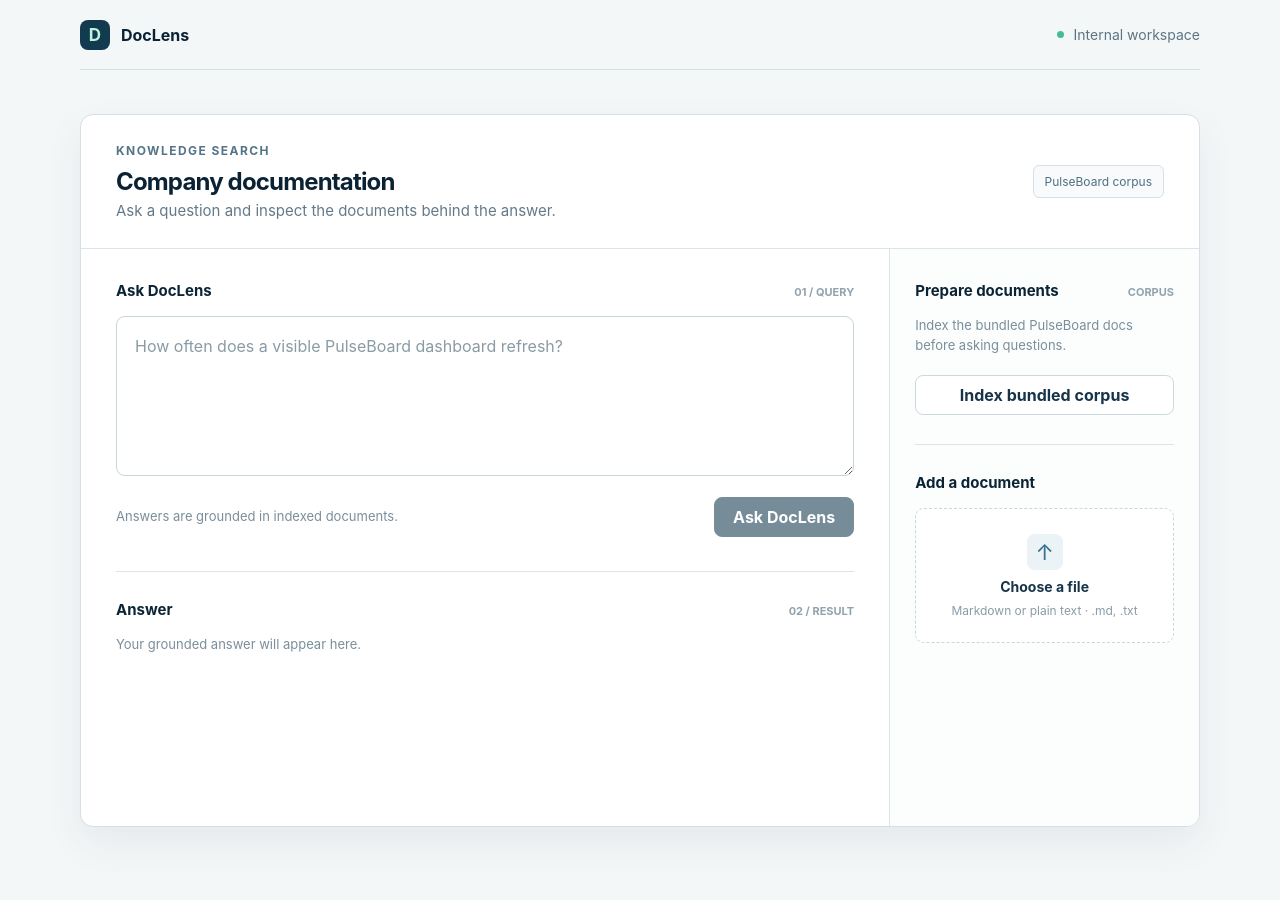
it: DocLens frontend › submits a question and renders unique source documents by display name
The image size is (1280, 900).
Type "How often does it refresh?" into the text box named "Question". click: (485, 396)
box: 116,316 -> 854,476
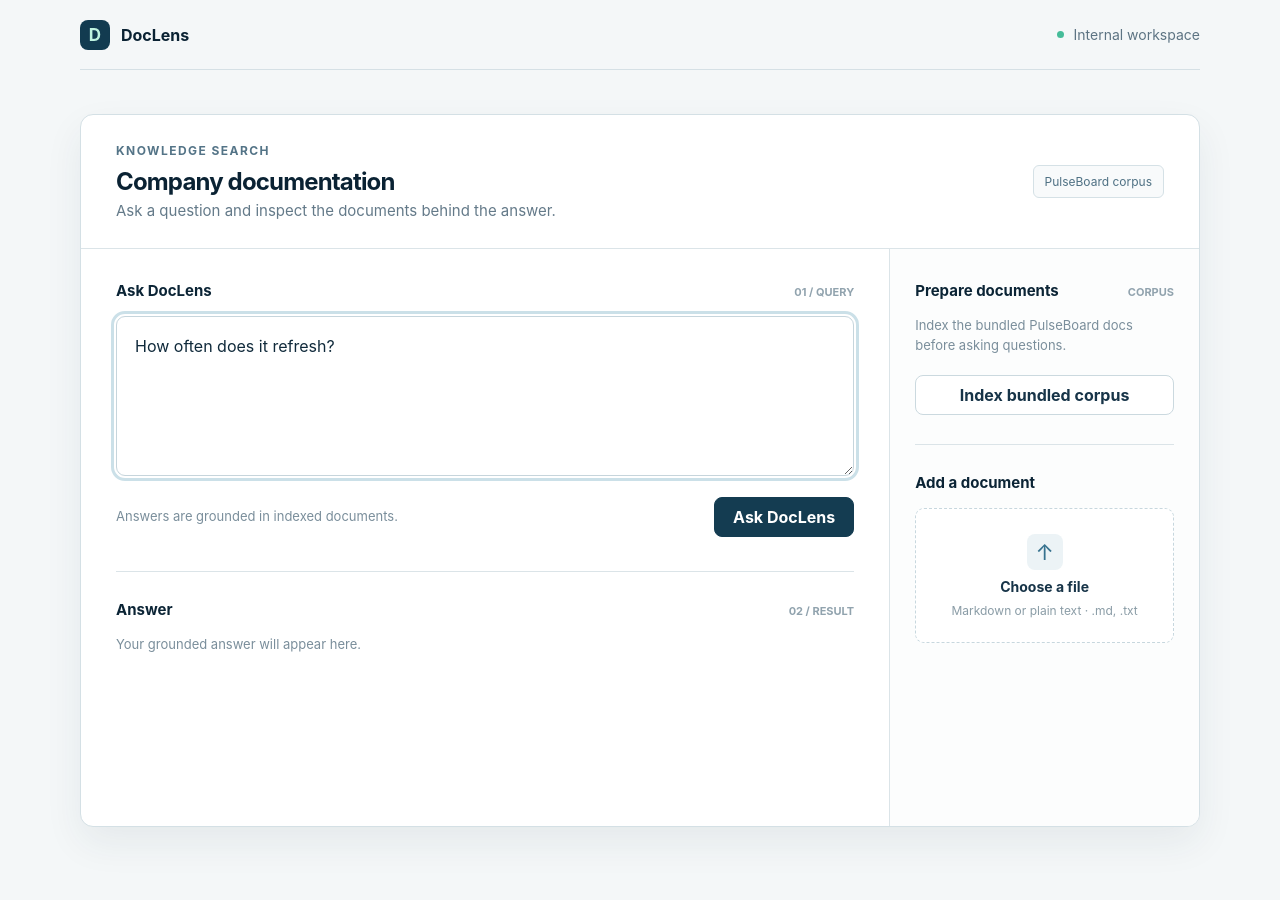
Click the button "Ask DocLens". click: click(784, 517)
box: 714,497 -> 854,537
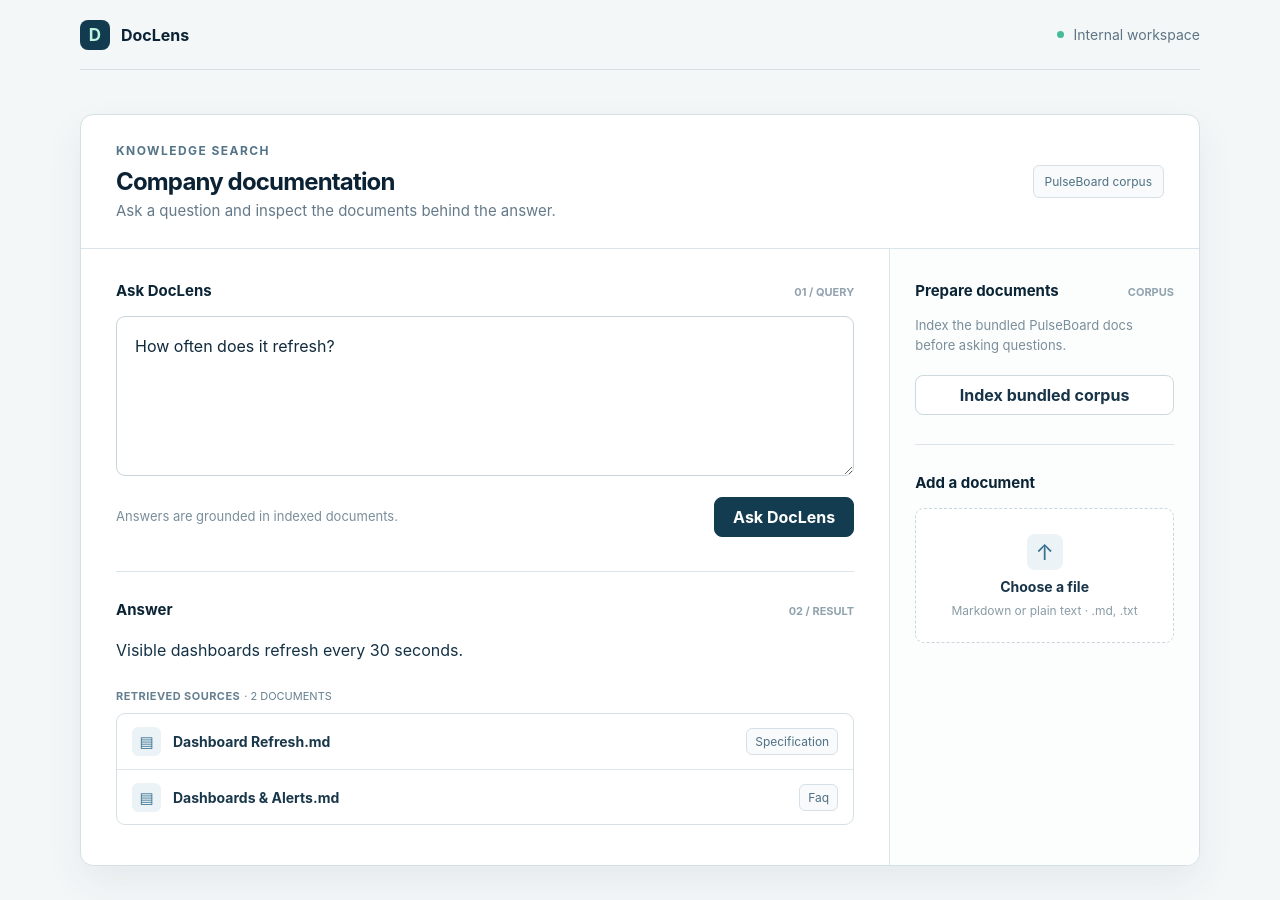
Result: the text "Visible dashboards refresh every 30 seconds." is shown at 116,640 -> 463,660
Result: the number of list items with test id "source-row" is 2 at 132,727 -> 838,756; 117,769 -> 853,824
Result: the text "Dashboard Refresh.md" is shown at 173,733 -> 330,750
